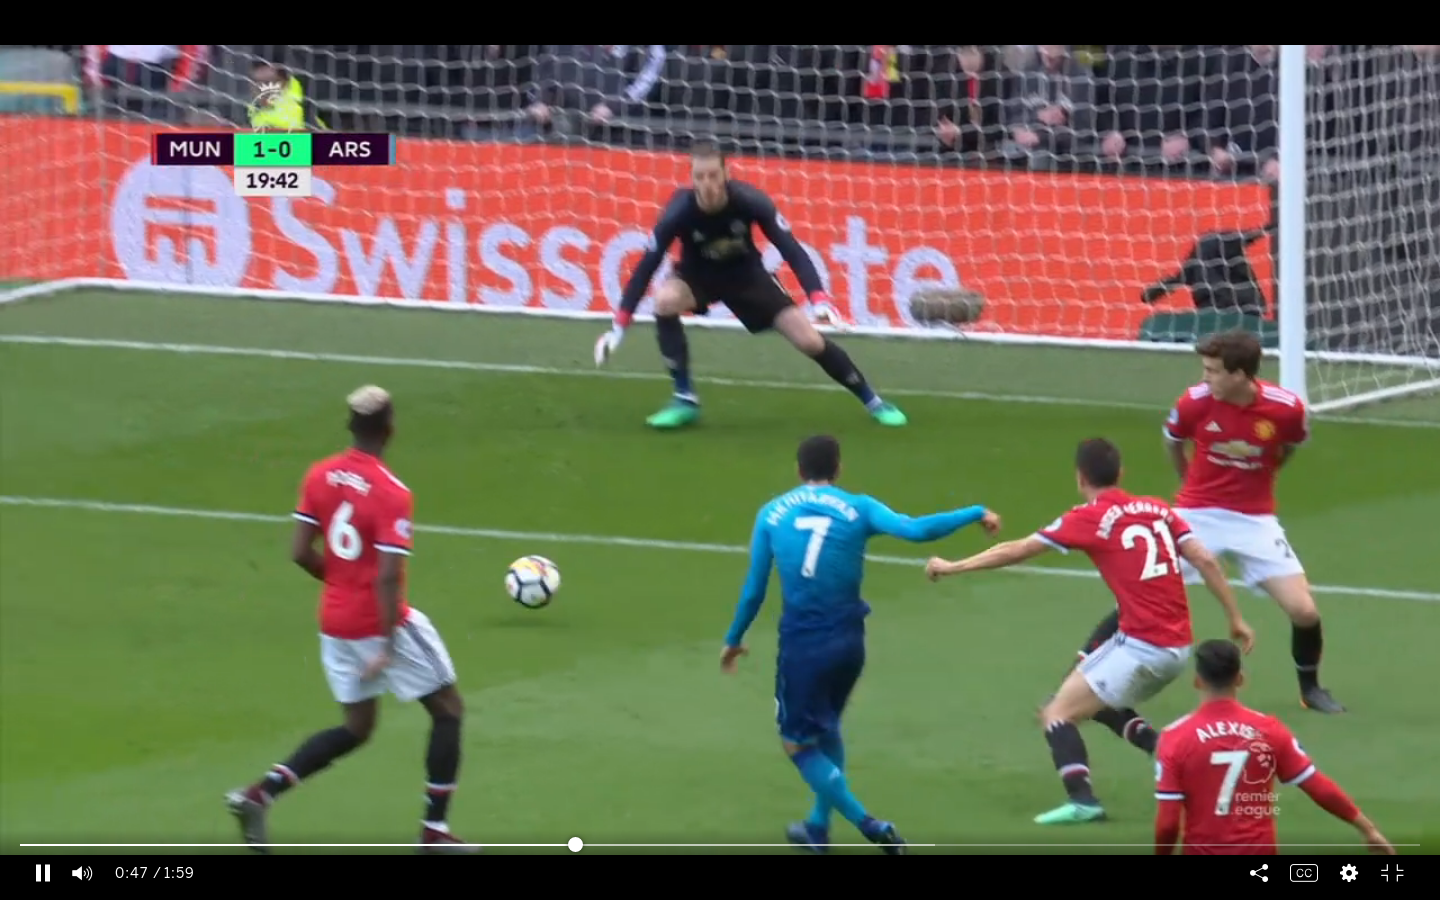soccer player: (219, 380, 473, 848), (575, 132, 919, 440), (712, 436, 956, 852), (1152, 329, 1358, 720), (1018, 428, 1187, 828), (1152, 636, 1333, 852)
soccerball: (499, 551, 565, 614)
